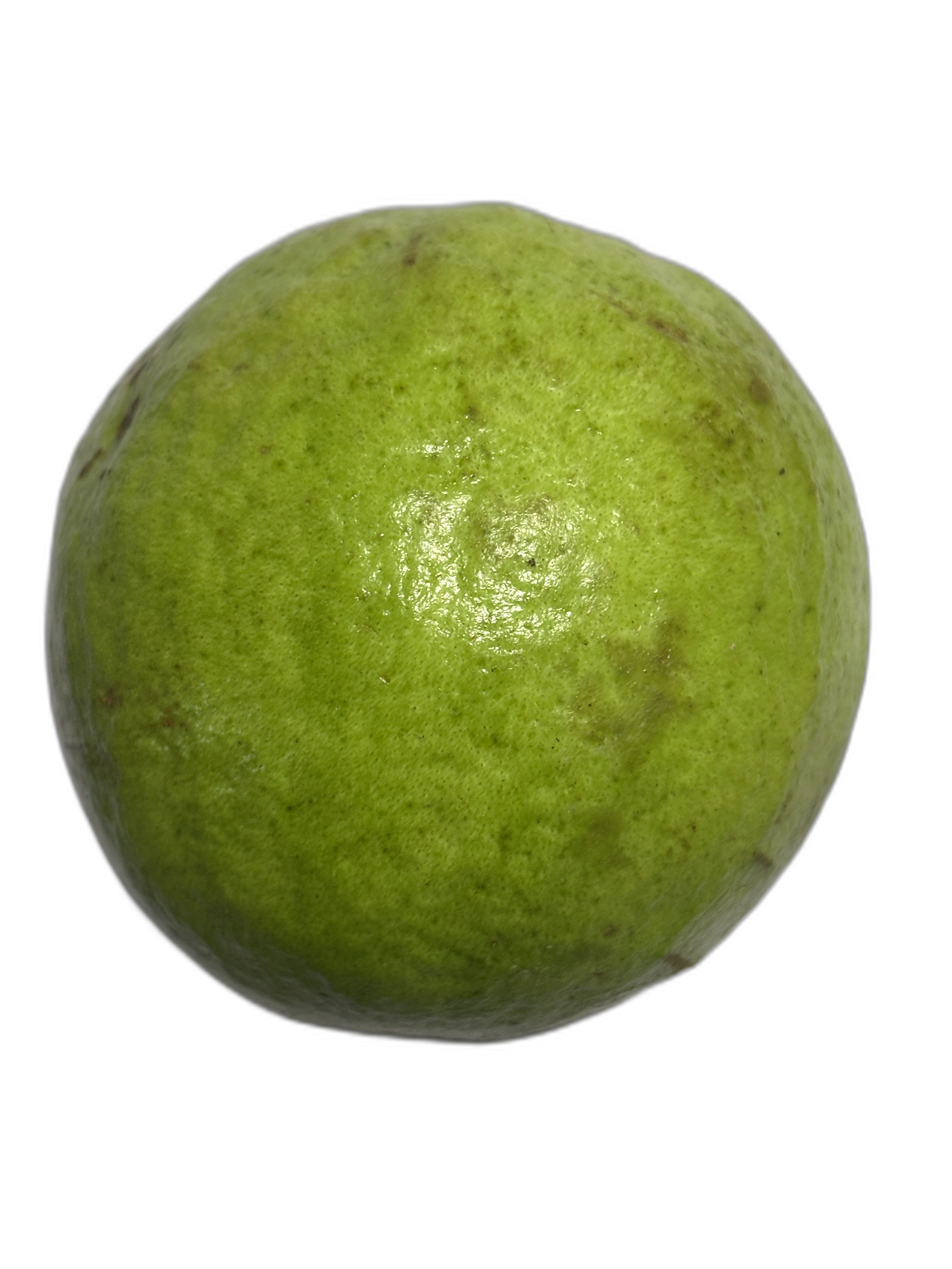guava: (114, 131, 900, 1269)
